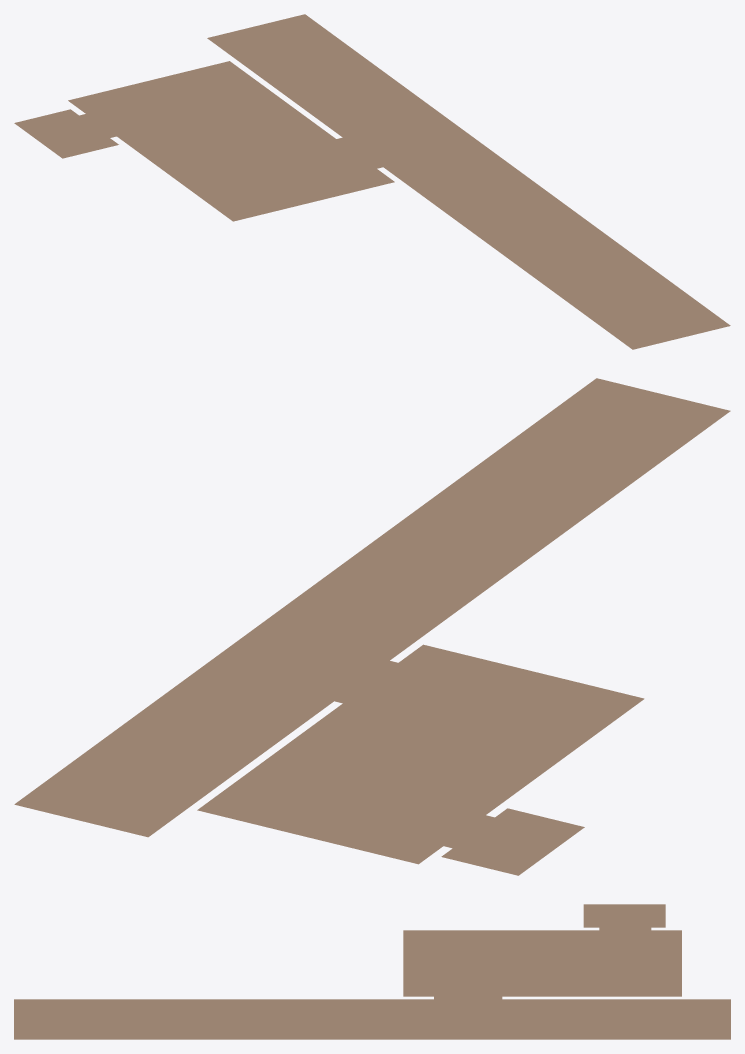
The model's file is rppf.fbx.
The picture shows the model from 3 angles, top to bottom: view 1: azimuth 30°, elevation 25°; view 2: azimuth 150°, elevation 25°; view 3: azimuth 270°, elevation 25°; orthographic projection. The views are drawn at different scales.
Parts seen in each view (by area): view 1: Plane.005; view 2: Plane.005; view 3: Plane.005.
Part boxes in pixels (x1,y1,x2,y2): Plane.005: (14,14,730,349); Plane.005: (14,378,730,875); Plane.005: (14,904,730,1039).
Size of the model in its own units: 1075 by 0.000392 by 2404.
